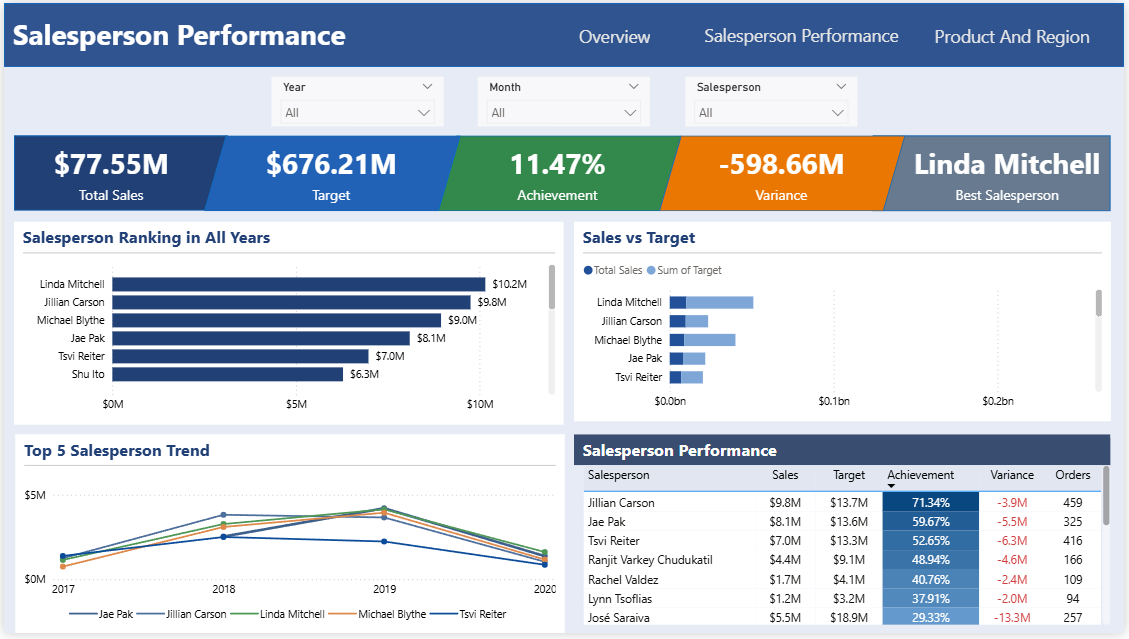

What the dashboard file says about the page in this screenshot:
{"tool":"powerbi","page":{"name":"Salesperson Performance","canvas":[1280,720],"ordinal":1},"visuals":[{"type":"shape","box":[0,0,1280,73],"z":0},{"type":"textbox","box":[0,3.3,416.7,70],"z":1000},{"type":"actionButton","box":[614.3,7.1,167.1,60],"z":2000},{"type":"actionButton","box":[1041.4,7.1,221.4,60],"z":3000},{"type":"actionButton","box":[781.4,5.7,260,60],"z":4000},{"type":"slicer","fields":{"Values":["Sales.OrderDate.Variation.Date Hierarchy.Year"]},"box":[305,85,196.7,56.7],"z":6000},{"type":"slicer","fields":{"Values":["Sales.OrderDate.Variation.Date Hierarchy.Month"]},"box":[541.7,85,196.7,56.7],"z":7000},{"type":"shape","box":[11.7,151.7,244.2,85.8],"z":8000},{"type":"slicer","fields":{"Values":["Salesperson.Salesperson"]},"box":[778.3,85,196.7,56.7],"z":9000},{"type":"card","fields":{"Values":["Sales.Total Sales"]},"box":[28.3,151.7,188.3,86.7],"z":10000},{"type":"shape","box":[491.7,151.7,283.3,86.7],"z":11000},{"type":"card","fields":{"Values":["Sales.Target Achievement %"]},"box":[538.3,151.7,188.3,86.7],"z":12000},{"type":"shape","box":[993.3,151.7,271.7,86.7],"z":13000},{"type":"shape","box":[748.3,151.7,281.7,86.7],"z":14000},{"type":"card","fields":{"Values":["Sales.Variance"]},"box":[778.3,151.7,220,86.7],"z":15000},{"type":"card","fields":{"Values":["Min(Salesperson.Salesperson)"]},"box":[1030,151.7,233.3,86.7],"z":16000},{"type":"shape","box":[228.3,151.7,293.3,86.7],"z":17000},{"type":"card","fields":{"Values":["Sum(Targets.Target)"]},"box":[280,151.7,188.3,86.7],"z":18000},{"type":"barChart","fields":{"Category":["Salesperson.Salesperson"],"Y":["Sales.Total Sales"]},"box":[11.7,250,628.3,231.7],"z":19000},{"type":"barChart","title":"Sales vs Target","fields":{"Category":["Salesperson.Salesperson"],"Y":["Sales.Total Sales","Sum(Targets.Target)"]},"box":[651.7,250,613.3,228.3],"z":20000},{"type":"lineChart","title":"Top 5 Salesperson Trend","fields":{"Category":["Sales.OrderDate.Variation.Date Hierarchy.Year"],"Series":["Salesperson.Salesperson"],"Y":["Sales.Total Sales"]},"box":[12.2,492.2,627.8,227.8],"z":21000},{"type":"tableEx","title":"Salesperson Performance","fields":{"Values":["Salesperson.Salesperson","Products.Sales (M)","Salesperson.Target (M)","Sales.Target Achievement %","Products.Variance (M)","Sales.Total Orders"]},"box":[651.6,492.6,612.9,227.7],"z":22000}]}

Visuals, with their boxes in screenshot pixels (x1, y1, x2, y2), scaled from the page's 1280x720 canvas onto the 1129x639 screenshot:
shape: BBox(0, 0, 1128, 65)
textbox: BBox(0, 3, 368, 65)
actionButton: BBox(542, 6, 689, 60)
actionButton: BBox(919, 6, 1114, 60)
actionButton: BBox(689, 5, 919, 58)
slicer - Sales.OrderDate.Variation.Date Hierarchy.Year: BBox(269, 75, 443, 126)
slicer - Sales.OrderDate.Variation.Date Hierarchy.Month: BBox(478, 75, 651, 126)
shape: BBox(10, 135, 226, 211)
slicer - Salesperson.Salesperson: BBox(686, 75, 860, 126)
card - Sales.Total Sales: BBox(25, 135, 191, 212)
shape: BBox(434, 135, 684, 212)
card - Sales.Target Achievement %: BBox(475, 135, 641, 212)
shape: BBox(876, 135, 1116, 212)
shape: BBox(660, 135, 908, 212)
card - Sales.Variance: BBox(686, 135, 881, 212)
card - Min(Salesperson.Salesperson): BBox(908, 135, 1114, 212)
shape: BBox(201, 135, 460, 212)
card - Sum(Targets.Target): BBox(247, 135, 413, 212)
barChart - Salesperson.Salesperson x Sales.Total Sales: BBox(10, 222, 564, 428)
"Sales vs Target" barChart: BBox(575, 222, 1116, 424)
"Top 5 Salesperson Trend" lineChart: BBox(11, 437, 564, 638)
"Salesperson Performance" tableEx: BBox(575, 437, 1115, 638)
